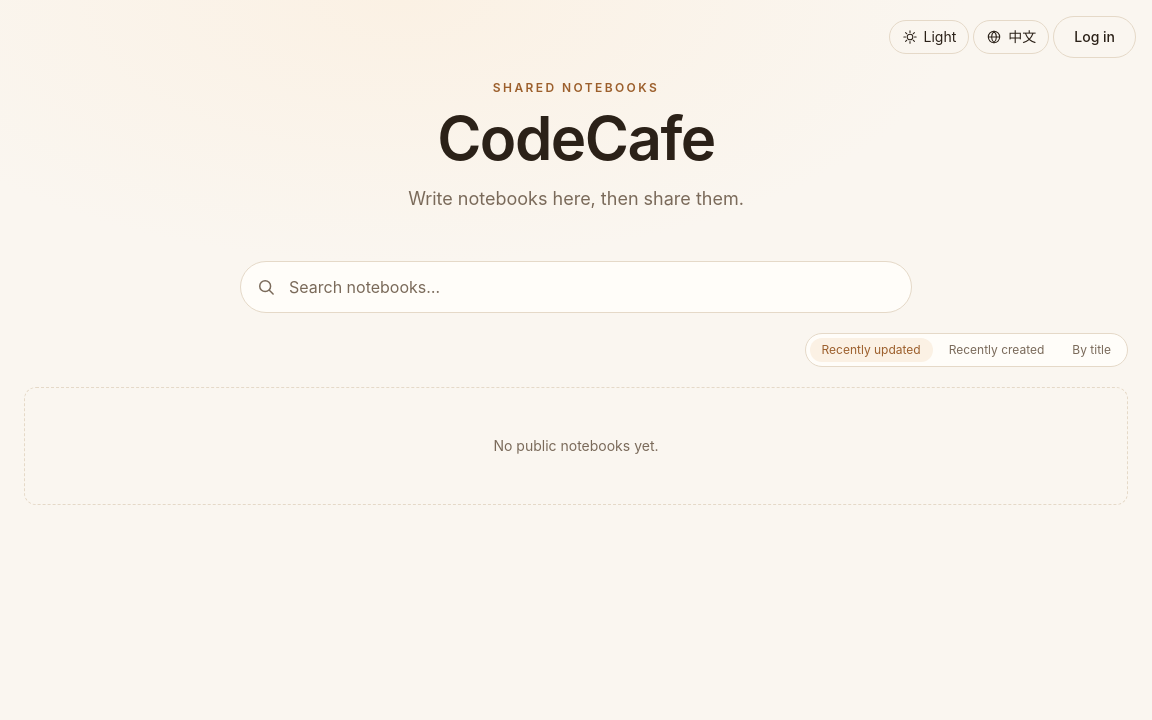
Test: switches every visible string to Chinese without a reload
The width and height of the screenshot is (1152, 720).
Expected: the text "Write notebooks here, then share them." is shown, [408, 188, 744, 209]
Step 1. Click the button with aria-label "Switch language" → (1011, 37), box [973, 20, 1049, 54]
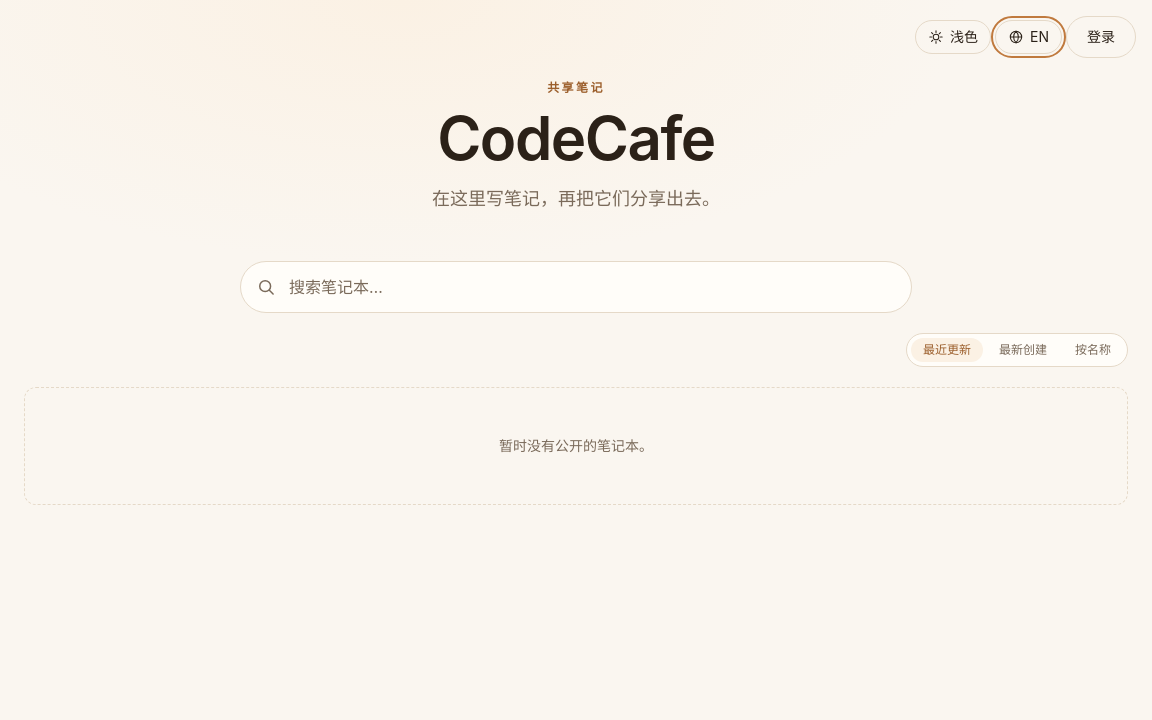
Result: the text "在这里写笔记，再把它们分享出去。" is shown at [432, 188, 720, 209]
Result: the text "暂时没有公开的笔记本。" is shown at [24, 387, 1128, 505]
Result: the button with aria-label "切换语言" is shown at [995, 20, 1062, 54]
